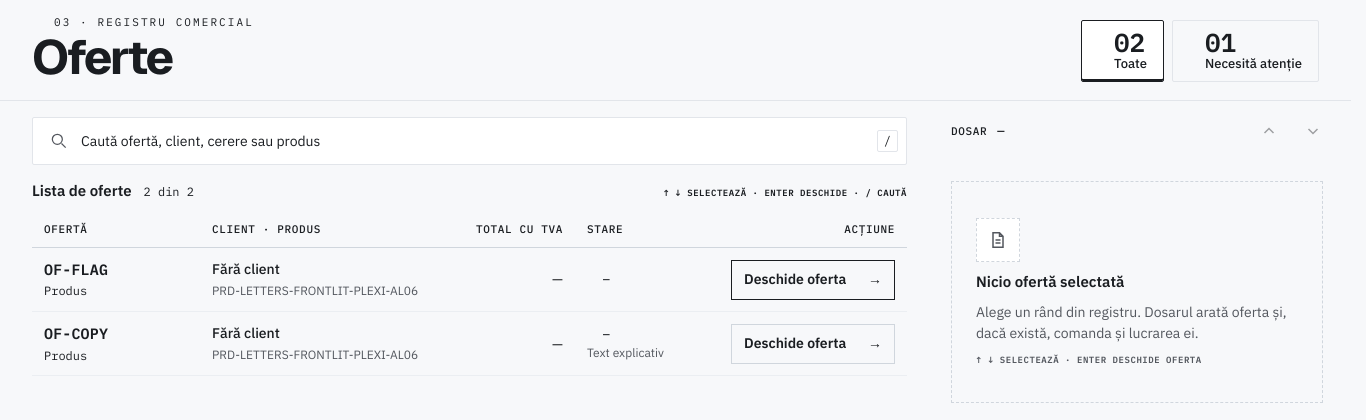
Test: QuotesPage › counts server attention flags instead of explanatory labels and filters by them
Expected: the link "OF-FLAG" is shown, [44,260,108,280]
Expected: the button "02 Toate" is shown, [1081,20,1164,82]
Click the button "01 Necesită atenție". click: (1246, 51)
box: [1172,20,1319,82]
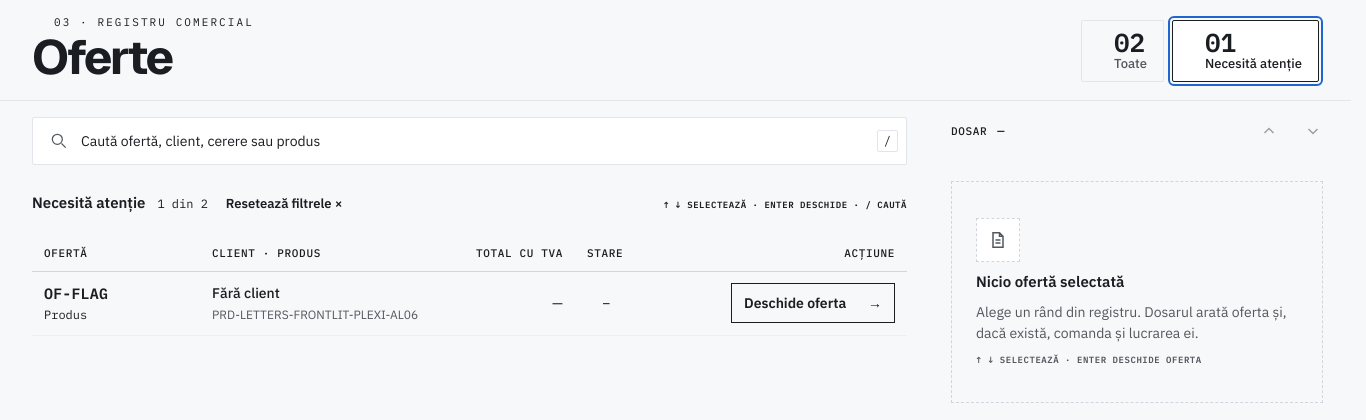
Expected: the link "OF-FLAG" is shown, [44,284,108,303]
Result: the link "OF-COPY" is gone
Result: the text "1 din 2" is shown at [158,196,208,210]
